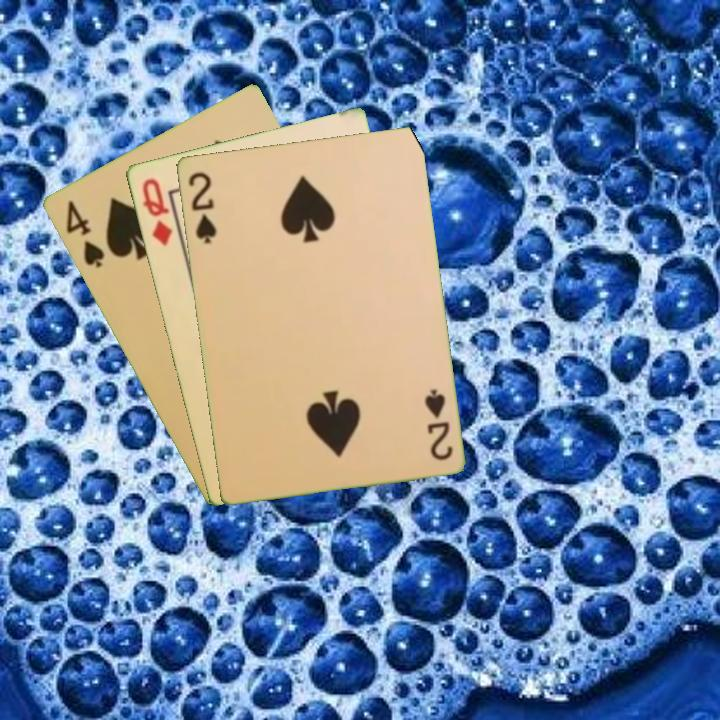2s: (184, 168, 219, 246), (420, 385, 455, 463)
4s: (61, 196, 107, 271)
Qd: (138, 174, 175, 248)
